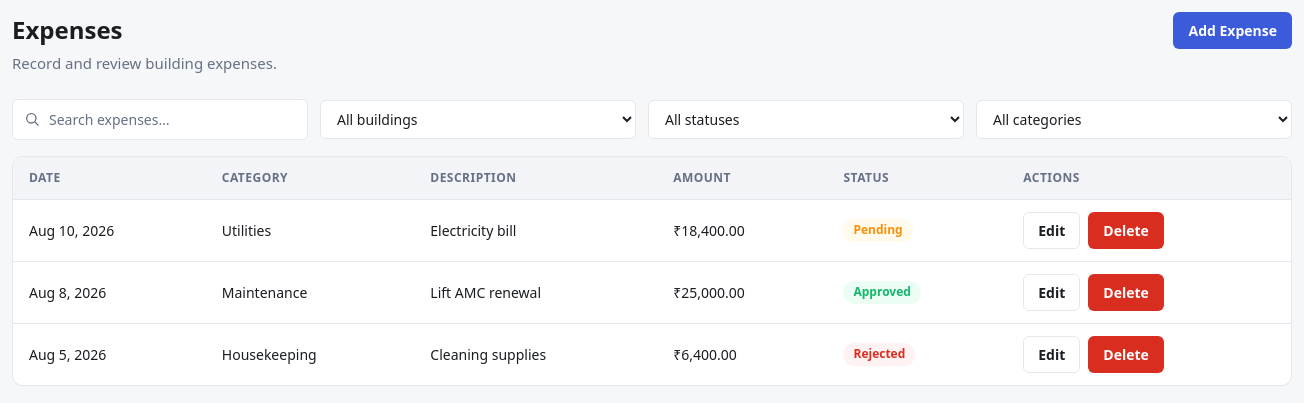
Test: ExpensesPage CRUD functionality › shows a no-search-results state
Check: the text "Electricity bill" is shown, box x1=414 y1=199 x2=657 y2=261
Type "unknown" into the search field at (160, 119), box x1=12 y1=98 x2=308 y2=140
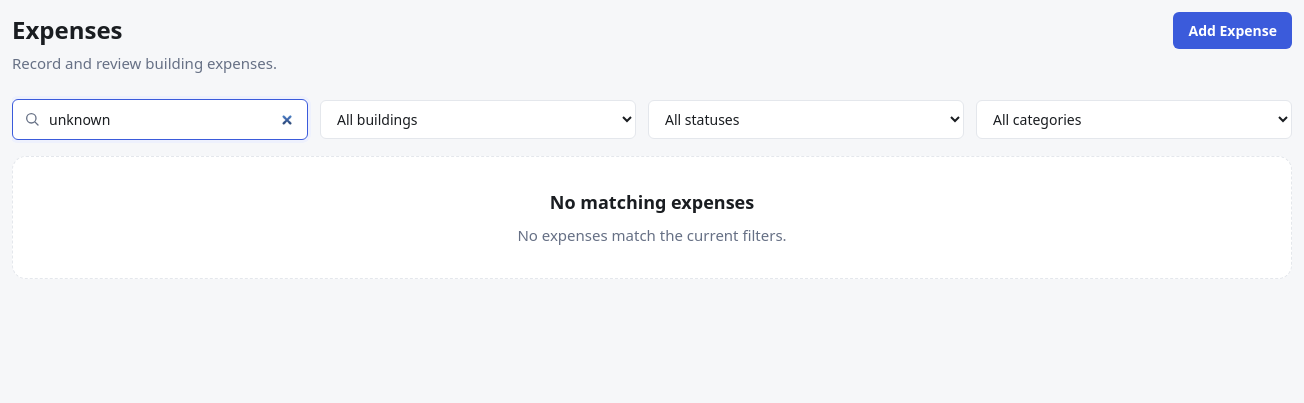
Check: the heading "No matching expenses" is shown, box x1=550 y1=188 x2=754 y2=216
